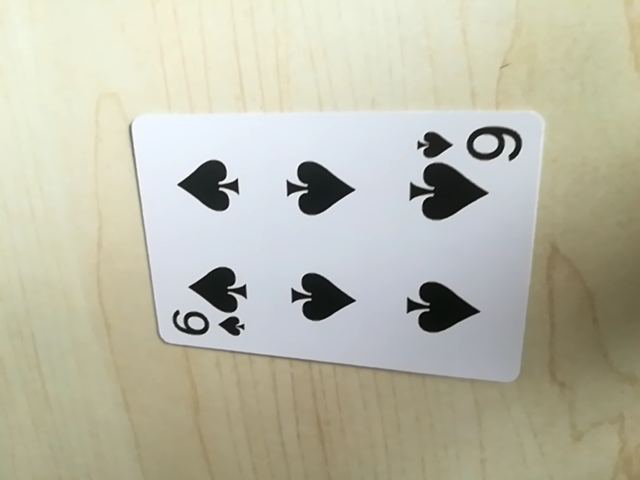ht 6: (411, 120, 527, 164), (168, 308, 250, 343)
